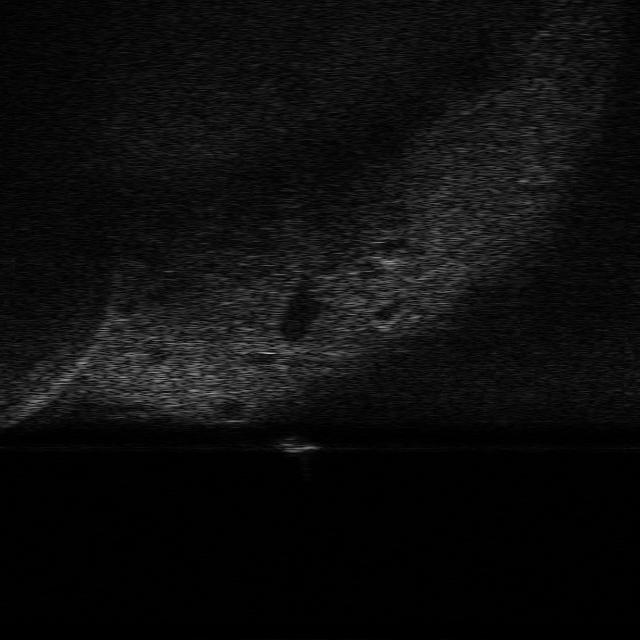cube: (270, 436, 326, 456)
